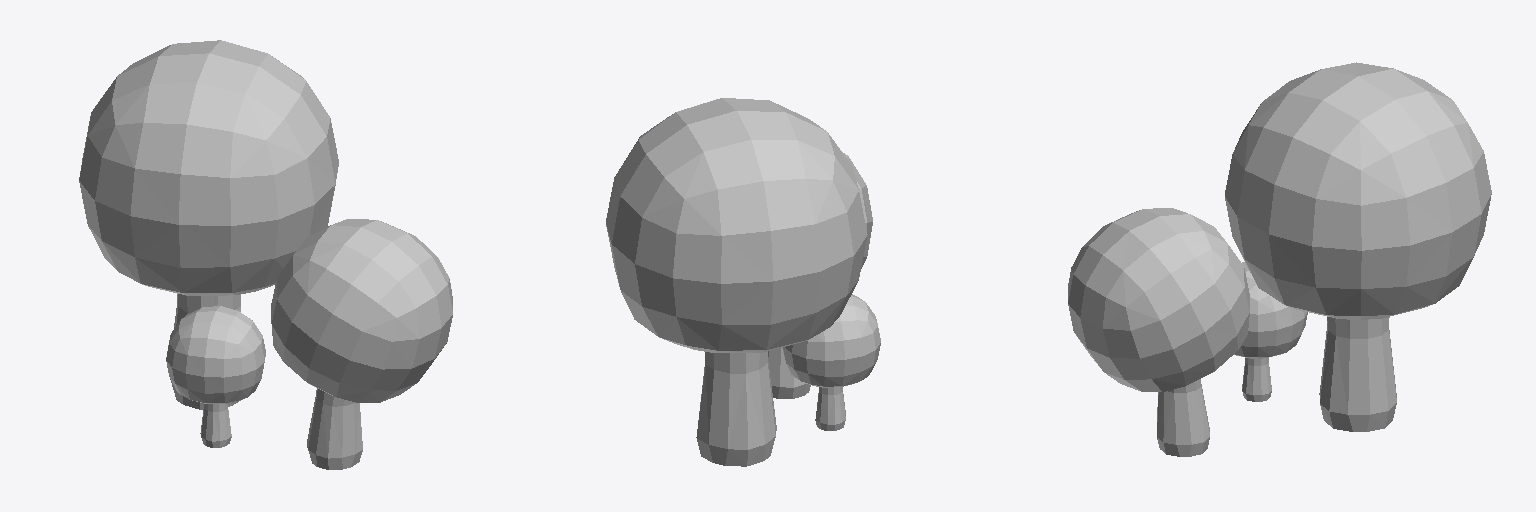
The model's file is mushroom_1.obj.
3 views of the same model, side by side, from view 1: azimuth 30°, elevation 25°; view 2: azimuth 150°, elevation 25°; view 3: azimuth 270°, elevation 25° (orthographic).
Parts seen in each view (by area): view 1: 3.001_Cube.003; view 2: 3.001_Cube.003; view 3: 3.001_Cube.003.
Boxes of the visible parts, x1=… form: 3.001_Cube.003: x1=79, y1=40, x2=452, y2=469; 3.001_Cube.003: x1=606, y1=98, x2=880, y2=466; 3.001_Cube.003: x1=1068, y1=62, x2=1491, y2=456.
Size of the model in its own units: 0.9257 by 1.26 by 1.37.